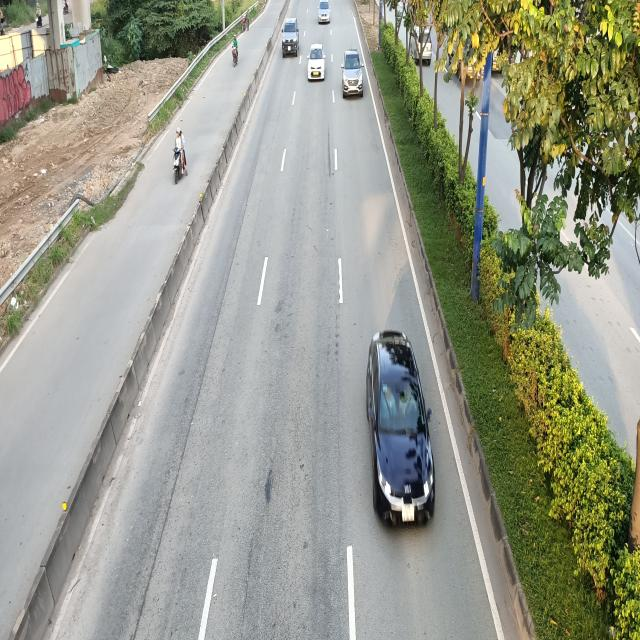car: (366, 330, 436, 525), (342, 50, 365, 98), (307, 44, 326, 83), (282, 16, 300, 57)
